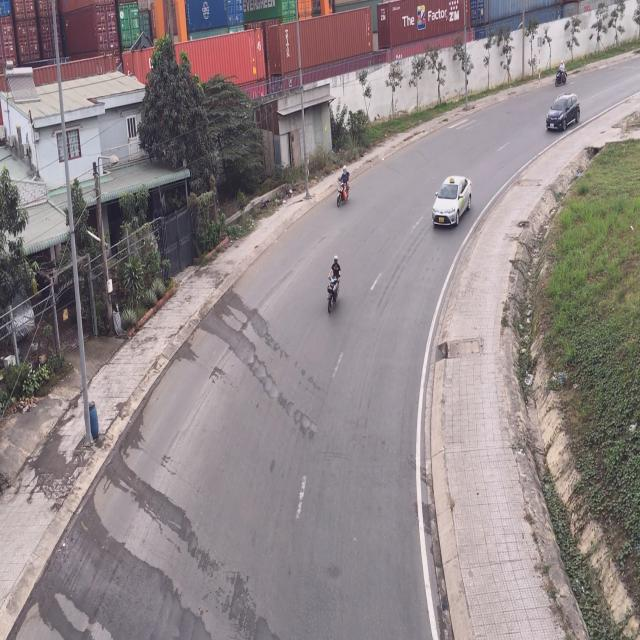car: (432, 176, 472, 231), (545, 92, 581, 134)
motorbike: (325, 256, 341, 317), (337, 162, 353, 210), (554, 62, 570, 87)
